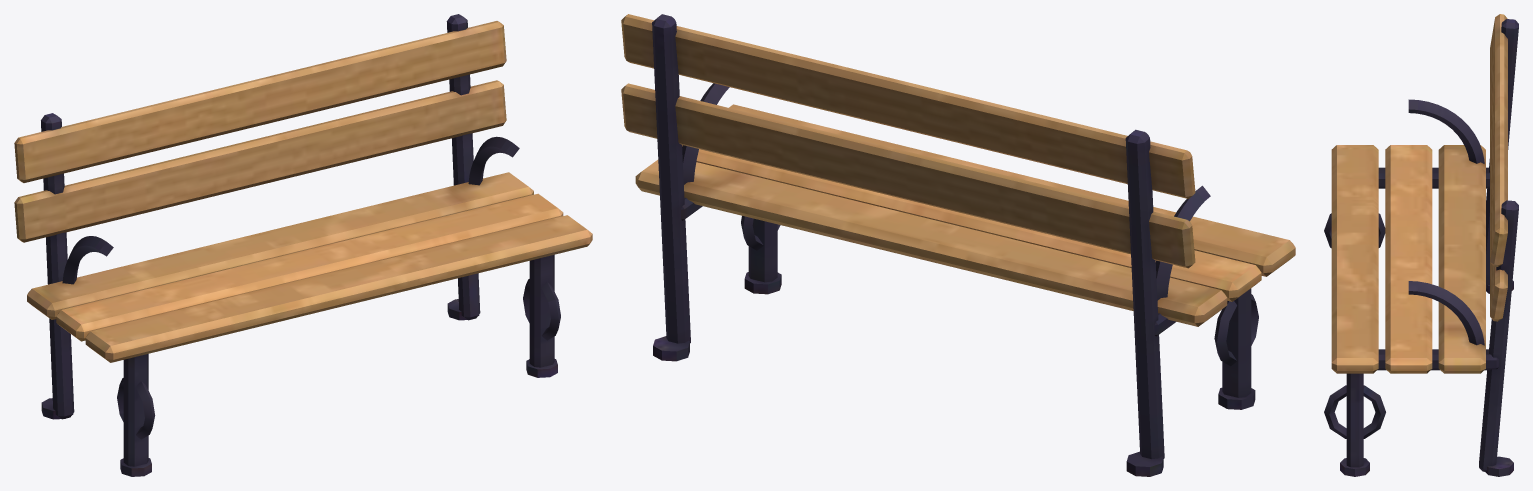
Rendered from bench.glb.
3 views of the same model, side by side, from view 1: azimuth 30°, elevation 25°; view 2: azimuth 150°, elevation 25°; view 3: azimuth 270°, elevation 25° (orthographic). The views are drawn at different scales.
Parts seen in each view (by area): view 1: box; view 2: box; view 3: box.
Part boxes in pixels (left/top/right/bottom): box: left=14, top=14, right=592, bottom=476; box: left=621, top=14, right=1295, bottom=476; box: left=1324, top=14, right=1518, bottom=476.
Bounding box in the file's own units: 2.4 × 1.38 × 0.9083.
Materials: 1 (1 with a texture image).
